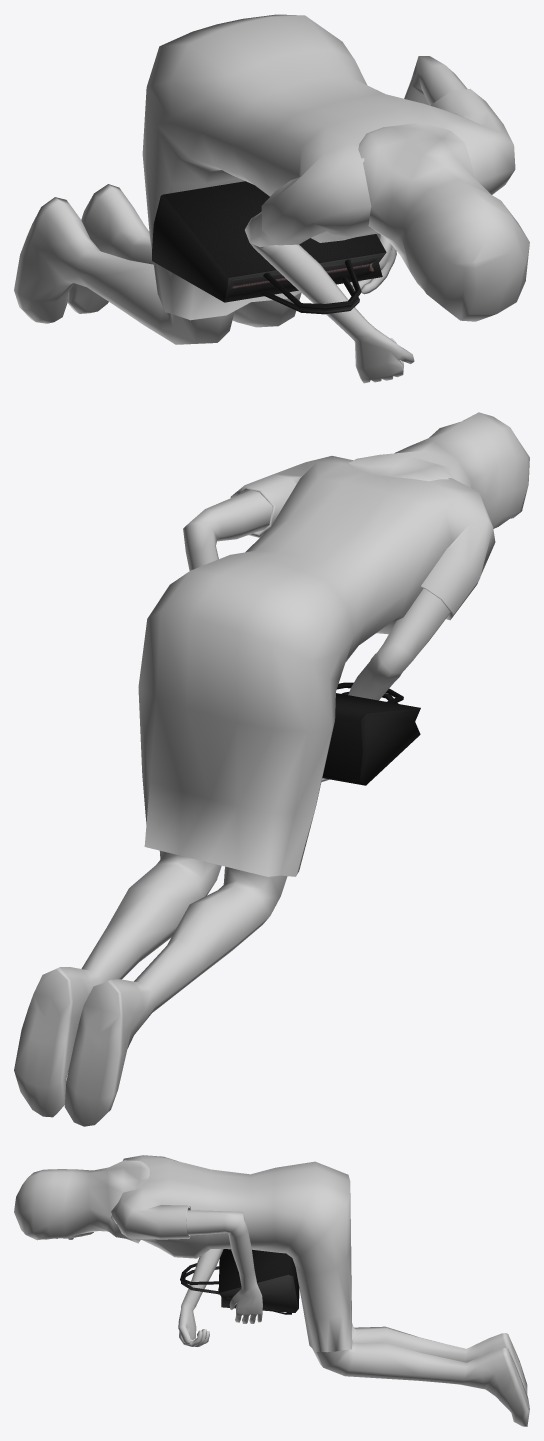
File: FemaleVisitorSit.obj
3 renders of one model, top to bottom at view 1: azimuth 30°, elevation 25°; view 2: azimuth 150°, elevation 25°; view 3: azimuth 270°, elevation 25°, orthographic. The views are drawn at different scales.
Visible parts, largest first — view 1: FemaleVisitor.002; view 2: FemaleVisitor.002; view 3: FemaleVisitor.002.
Boxes of the visible parts, box(x1,y1,x2,y2) form: FemaleVisitor.002: box(14, 14, 529, 383); FemaleVisitor.002: box(14, 412, 529, 1126); FemaleVisitor.002: box(14, 1155, 529, 1426).
Bounding box in the file's own units: 0.3836 × 0.6633 × 1.24.
